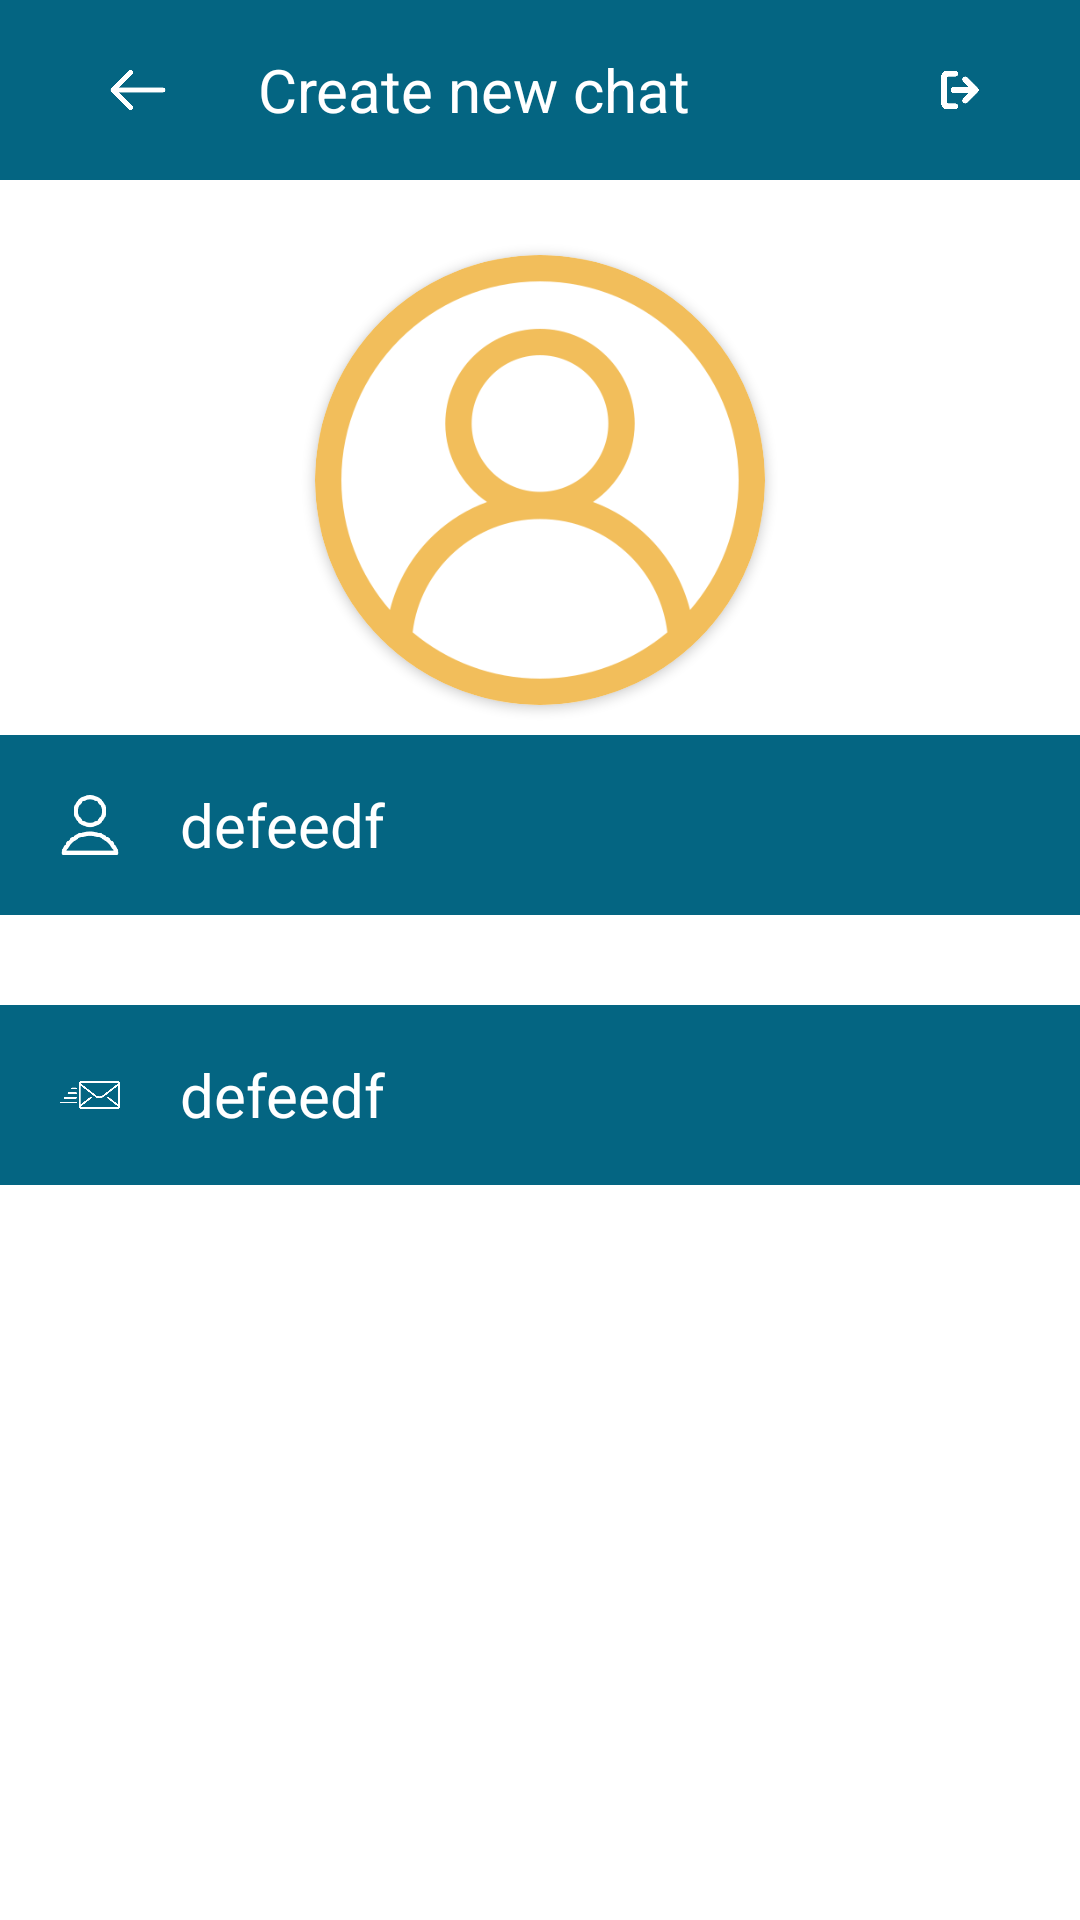

Named icons in this screenshot (1080 x 1920) and their centers, (x=x, y=y):
back: (x=138, y=90)
email: (x=90, y=1095)
log out: (x=960, y=90)
